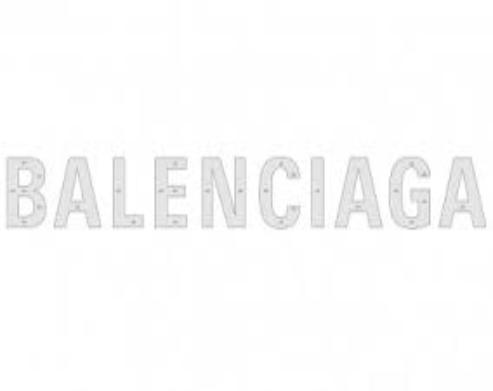BALENCIAGA: (1, 152, 493, 231)
